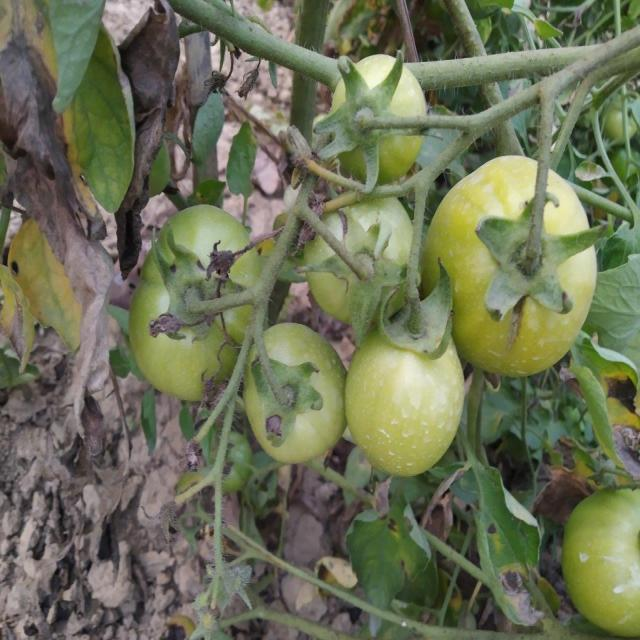Unripe: (423, 154, 597, 381), (127, 200, 263, 404), (343, 302, 465, 476), (246, 322, 349, 468), (333, 54, 426, 184)
